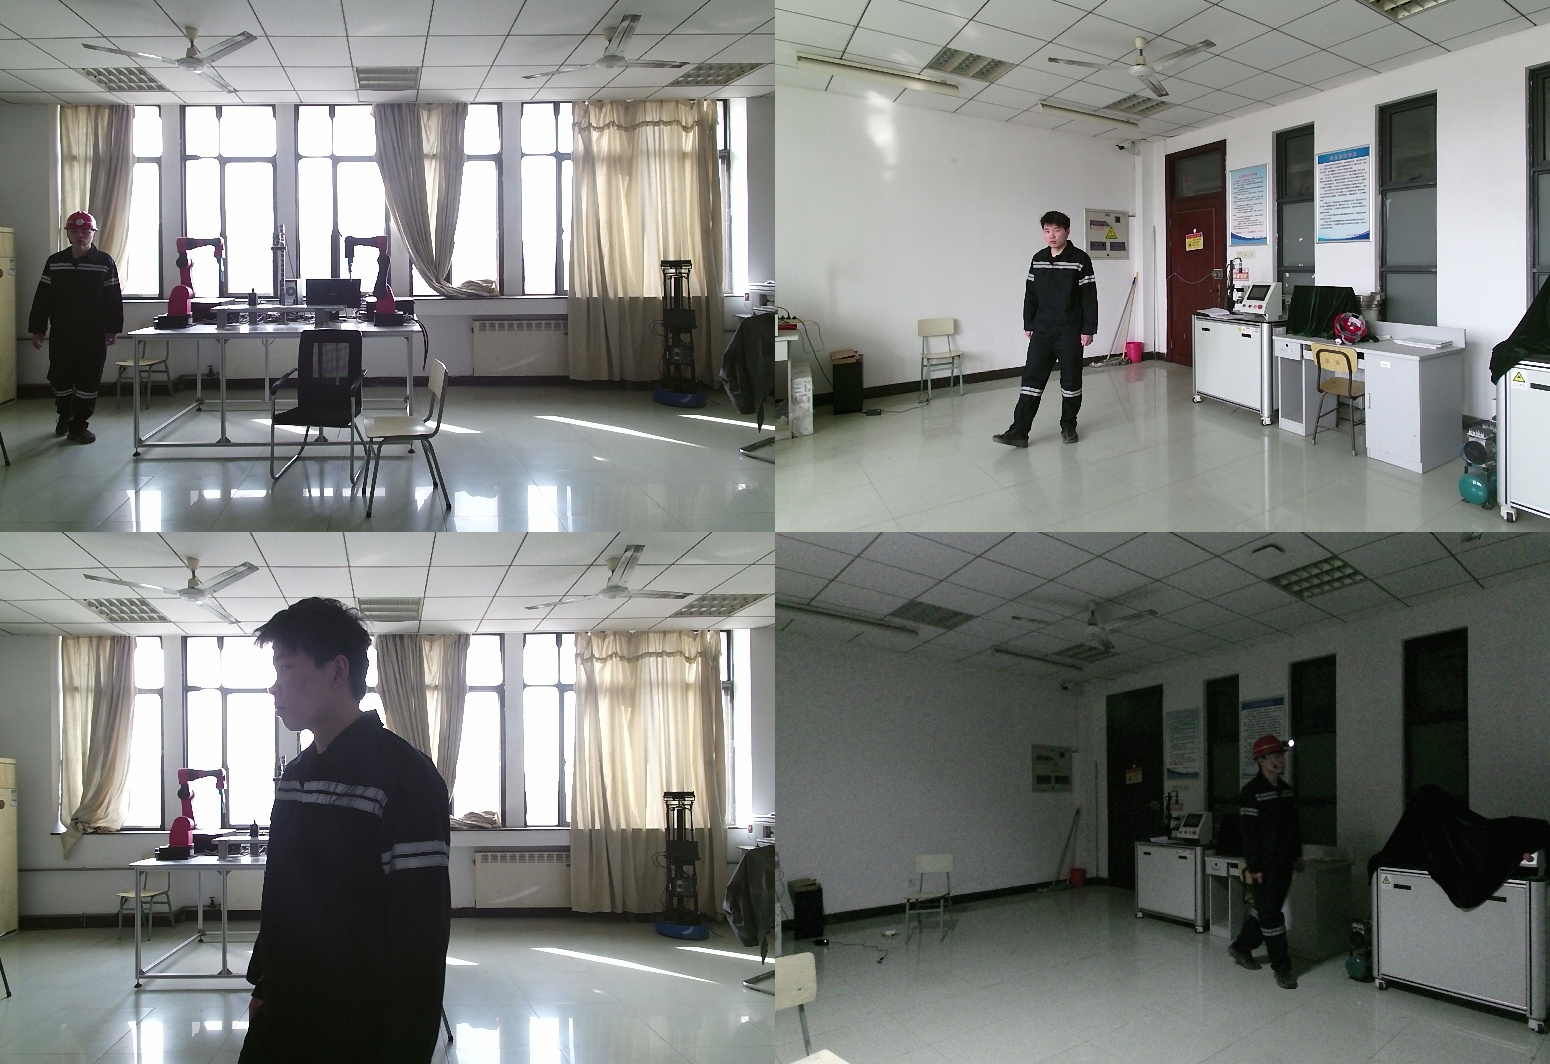person: (250, 596, 496, 1064), (994, 213, 1108, 445), (29, 212, 126, 445), (1229, 736, 1310, 989)
